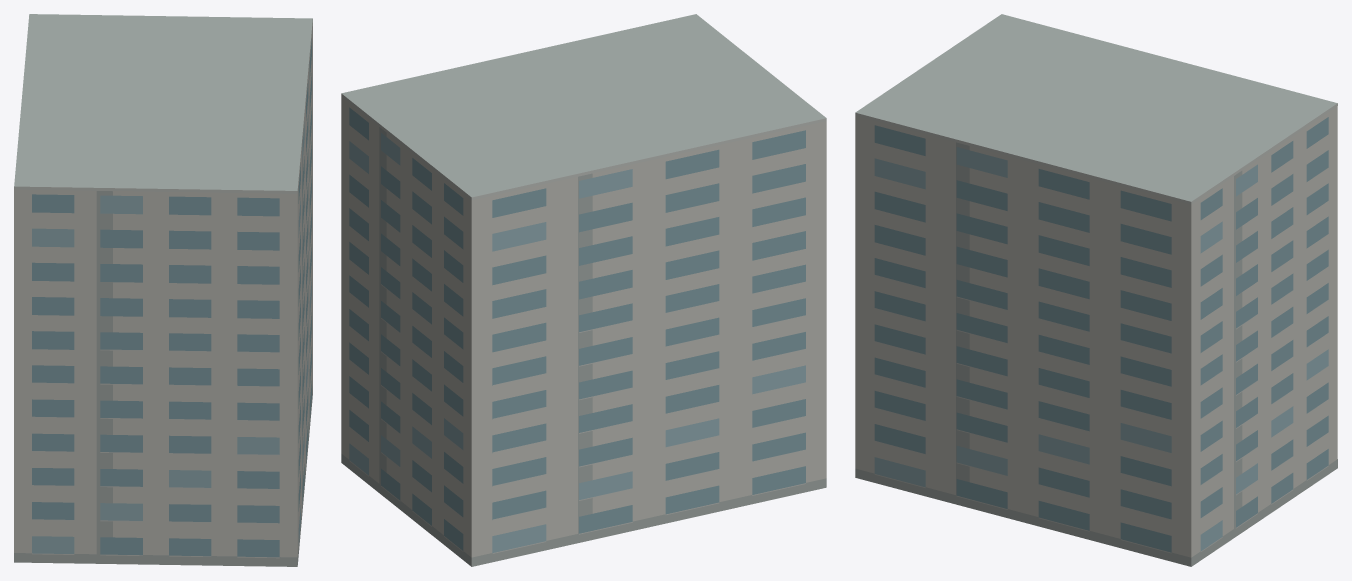
File: residential-920db702-b043-43aa-a6b1-89d4deea56df.glb
3 renders of one model, left to right at view 1: azimuth 30°, elevation 25°; view 2: azimuth 150°, elevation 25°; view 3: azimuth 270°, elevation 25°, orthographic. The views are drawn at different scales.
Visible parts, largest first — view 1: residential-920db702-b043-43aa-a6b1-89d4deea56df.tmp; view 2: residential-920db702-b043-43aa-a6b1-89d4deea56df.tmp; view 3: residential-920db702-b043-43aa-a6b1-89d4deea56df.tmp.
Part boxes in pixels (x1,y1,x2,y2): residential-920db702-b043-43aa-a6b1-89d4deea56df.tmp: (14,14,312,566); residential-920db702-b043-43aa-a6b1-89d4deea56df.tmp: (341,14,826,566); residential-920db702-b043-43aa-a6b1-89d4deea56df.tmp: (855,14,1337,566).
Size of the model in its own units: 33.11 by 30 by 35.94.
